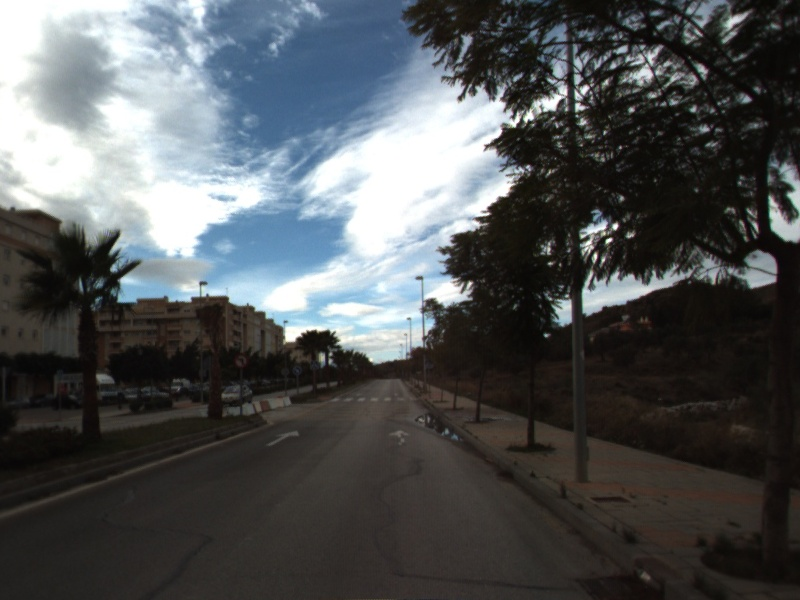STRAIGHT: (264, 428, 301, 448), (387, 428, 412, 448)
